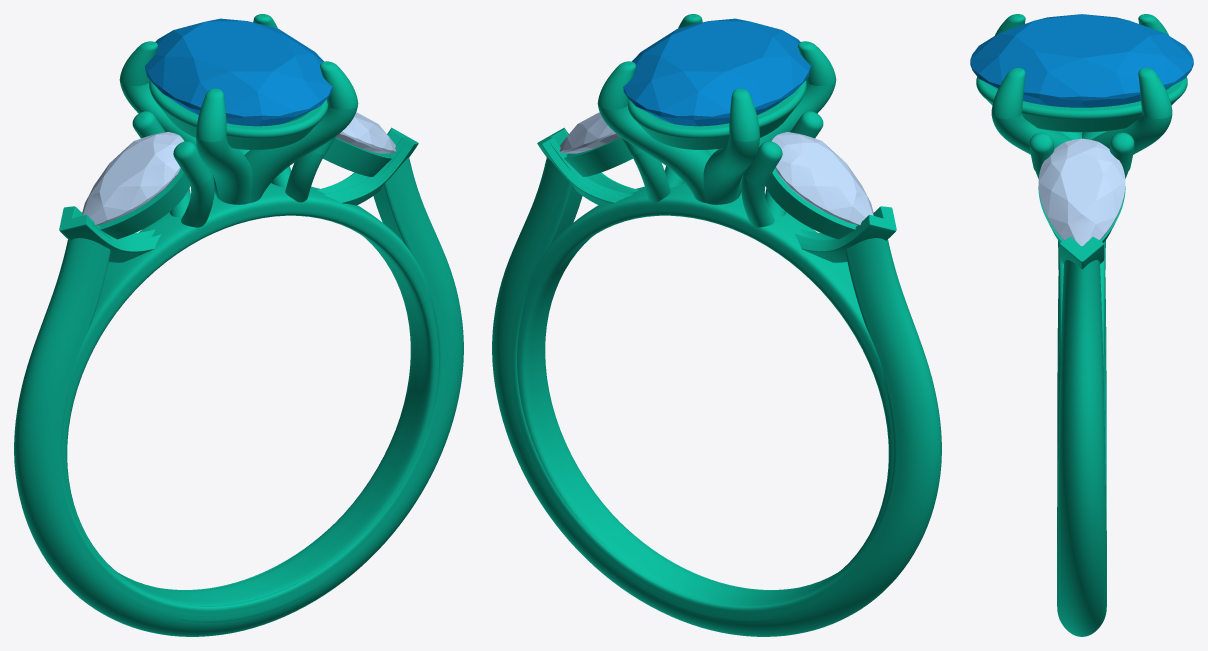
The picture shows the model from 3 angles, left to right: view 1: azimuth 30°, elevation 25°; view 2: azimuth 150°, elevation 25°; view 3: azimuth 270°, elevation 25°; orthographic projection.
Parts seen in each view (by area): view 1: JST.SRO 3(front).3dm, JewelCAD (×6), Diamond_Oval, Diamond_Pear (×2); view 2: JST.SRO 3(front).3dm, JewelCAD (×6), Diamond_Oval, Diamond_Pear (×2); view 3: JST.SRO 3(front).3dm, Diamond_Oval, Diamond_Pear, JewelCAD (×4).
Boxes of the visible parts, x1,y1,x2,y2 form: JST.SRO 3(front).3dm: (14,14,463,636); JewelCAD (×6): (59,127,438,622); Diamond_Oval: (145,18,332,126); Diamond_Pear (×2): (82,112,396,225); JST.SRO 3(front).3dm: (492,14,941,636); JewelCAD (×6): (517,127,896,622); Diamond_Oval: (623,18,810,126); Diamond_Pear (×2): (559,112,873,225); JST.SRO 3(front).3dm: (976,14,1187,636); Diamond_Oval: (970,14,1193,107); Diamond_Pear: (1038,138,1125,246); JewelCAD (×4): (1029,132,1134,611).
Size of what is drawn, in the model's own units: 2.41 by 3.01 by 1.06.
